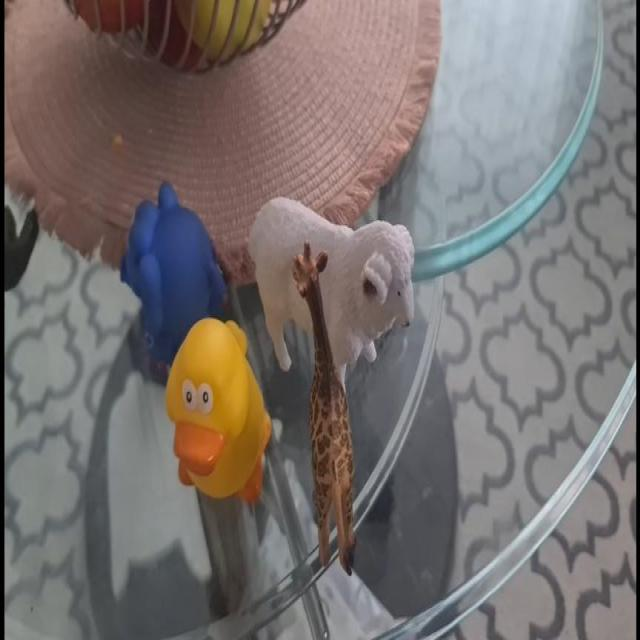hard-toy: (250, 200, 415, 383), (294, 244, 356, 574), (167, 319, 272, 502), (122, 184, 227, 367)
